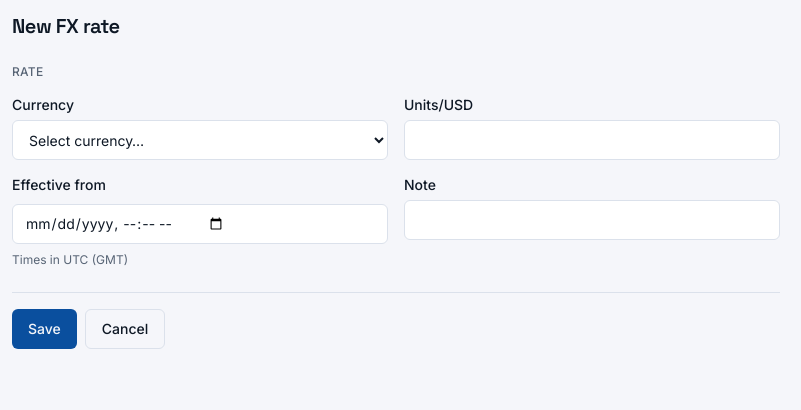
Test case: FxRateFormPage (create) › surfaces the server's error message instead of failing silently
The width and height of the screenshot is (801, 410).
Select "INR" in the dropdown labelled "Currency" at (200, 140), box [12,120,388,160]
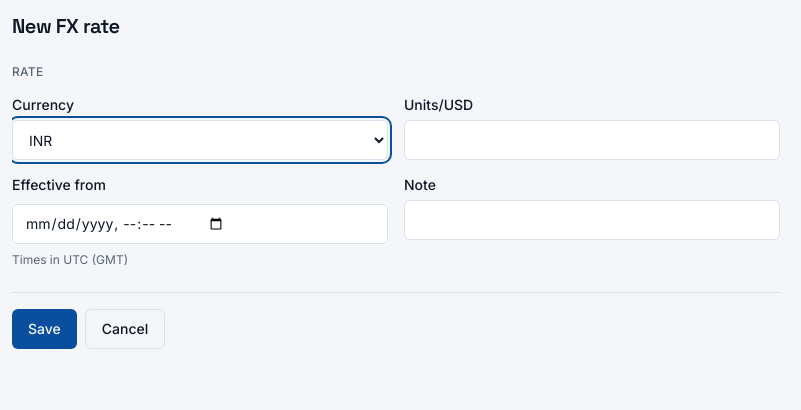
Type "83.5" into the number field labelled "Units/USD" at (592, 140), box [404,120,780,160]
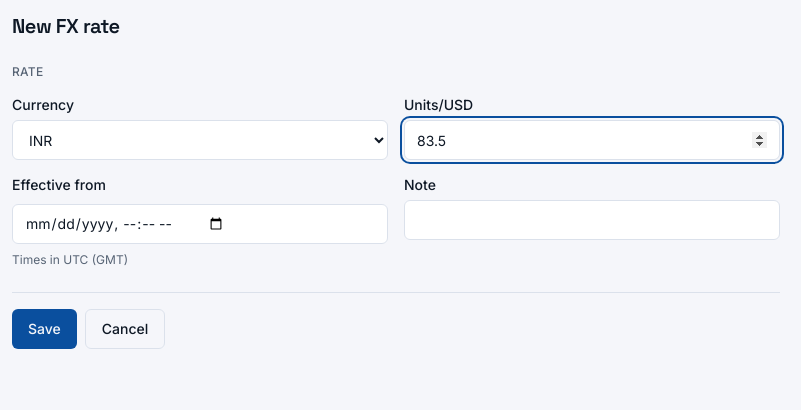
Click the button "Save" at (44, 329), box [12,309,77,349]
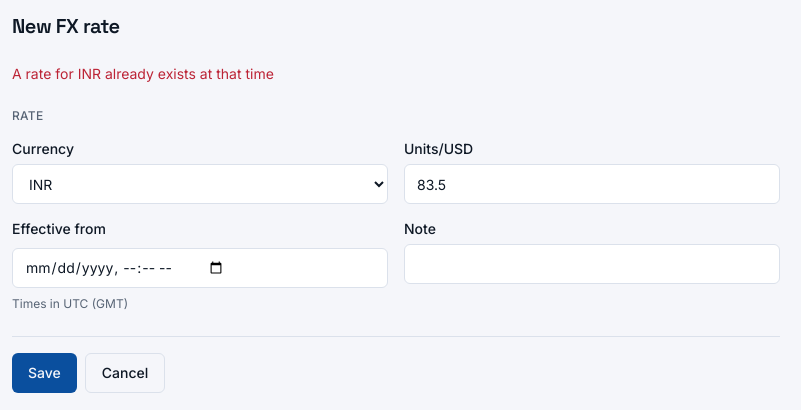
expect the text "A rate for INR already exists at that time" is shown: met, box [12,65,274,82]
